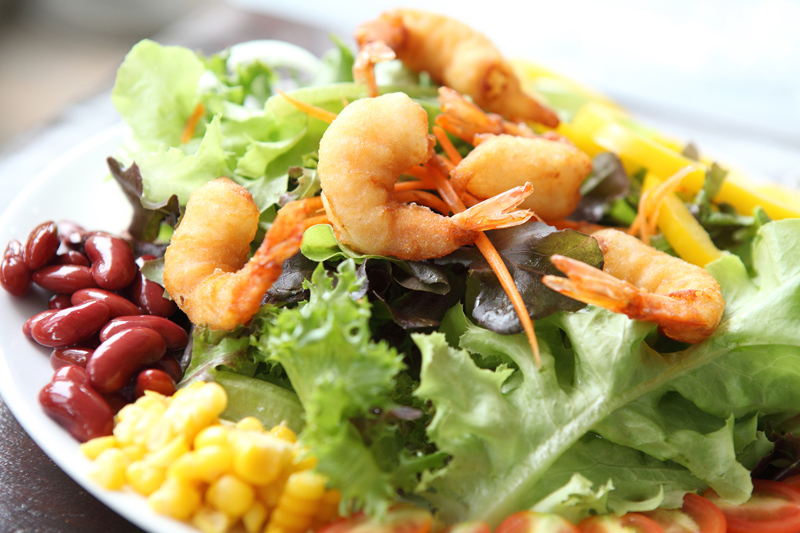chopped lettuce: (291, 298, 792, 512), (126, 57, 328, 194)
